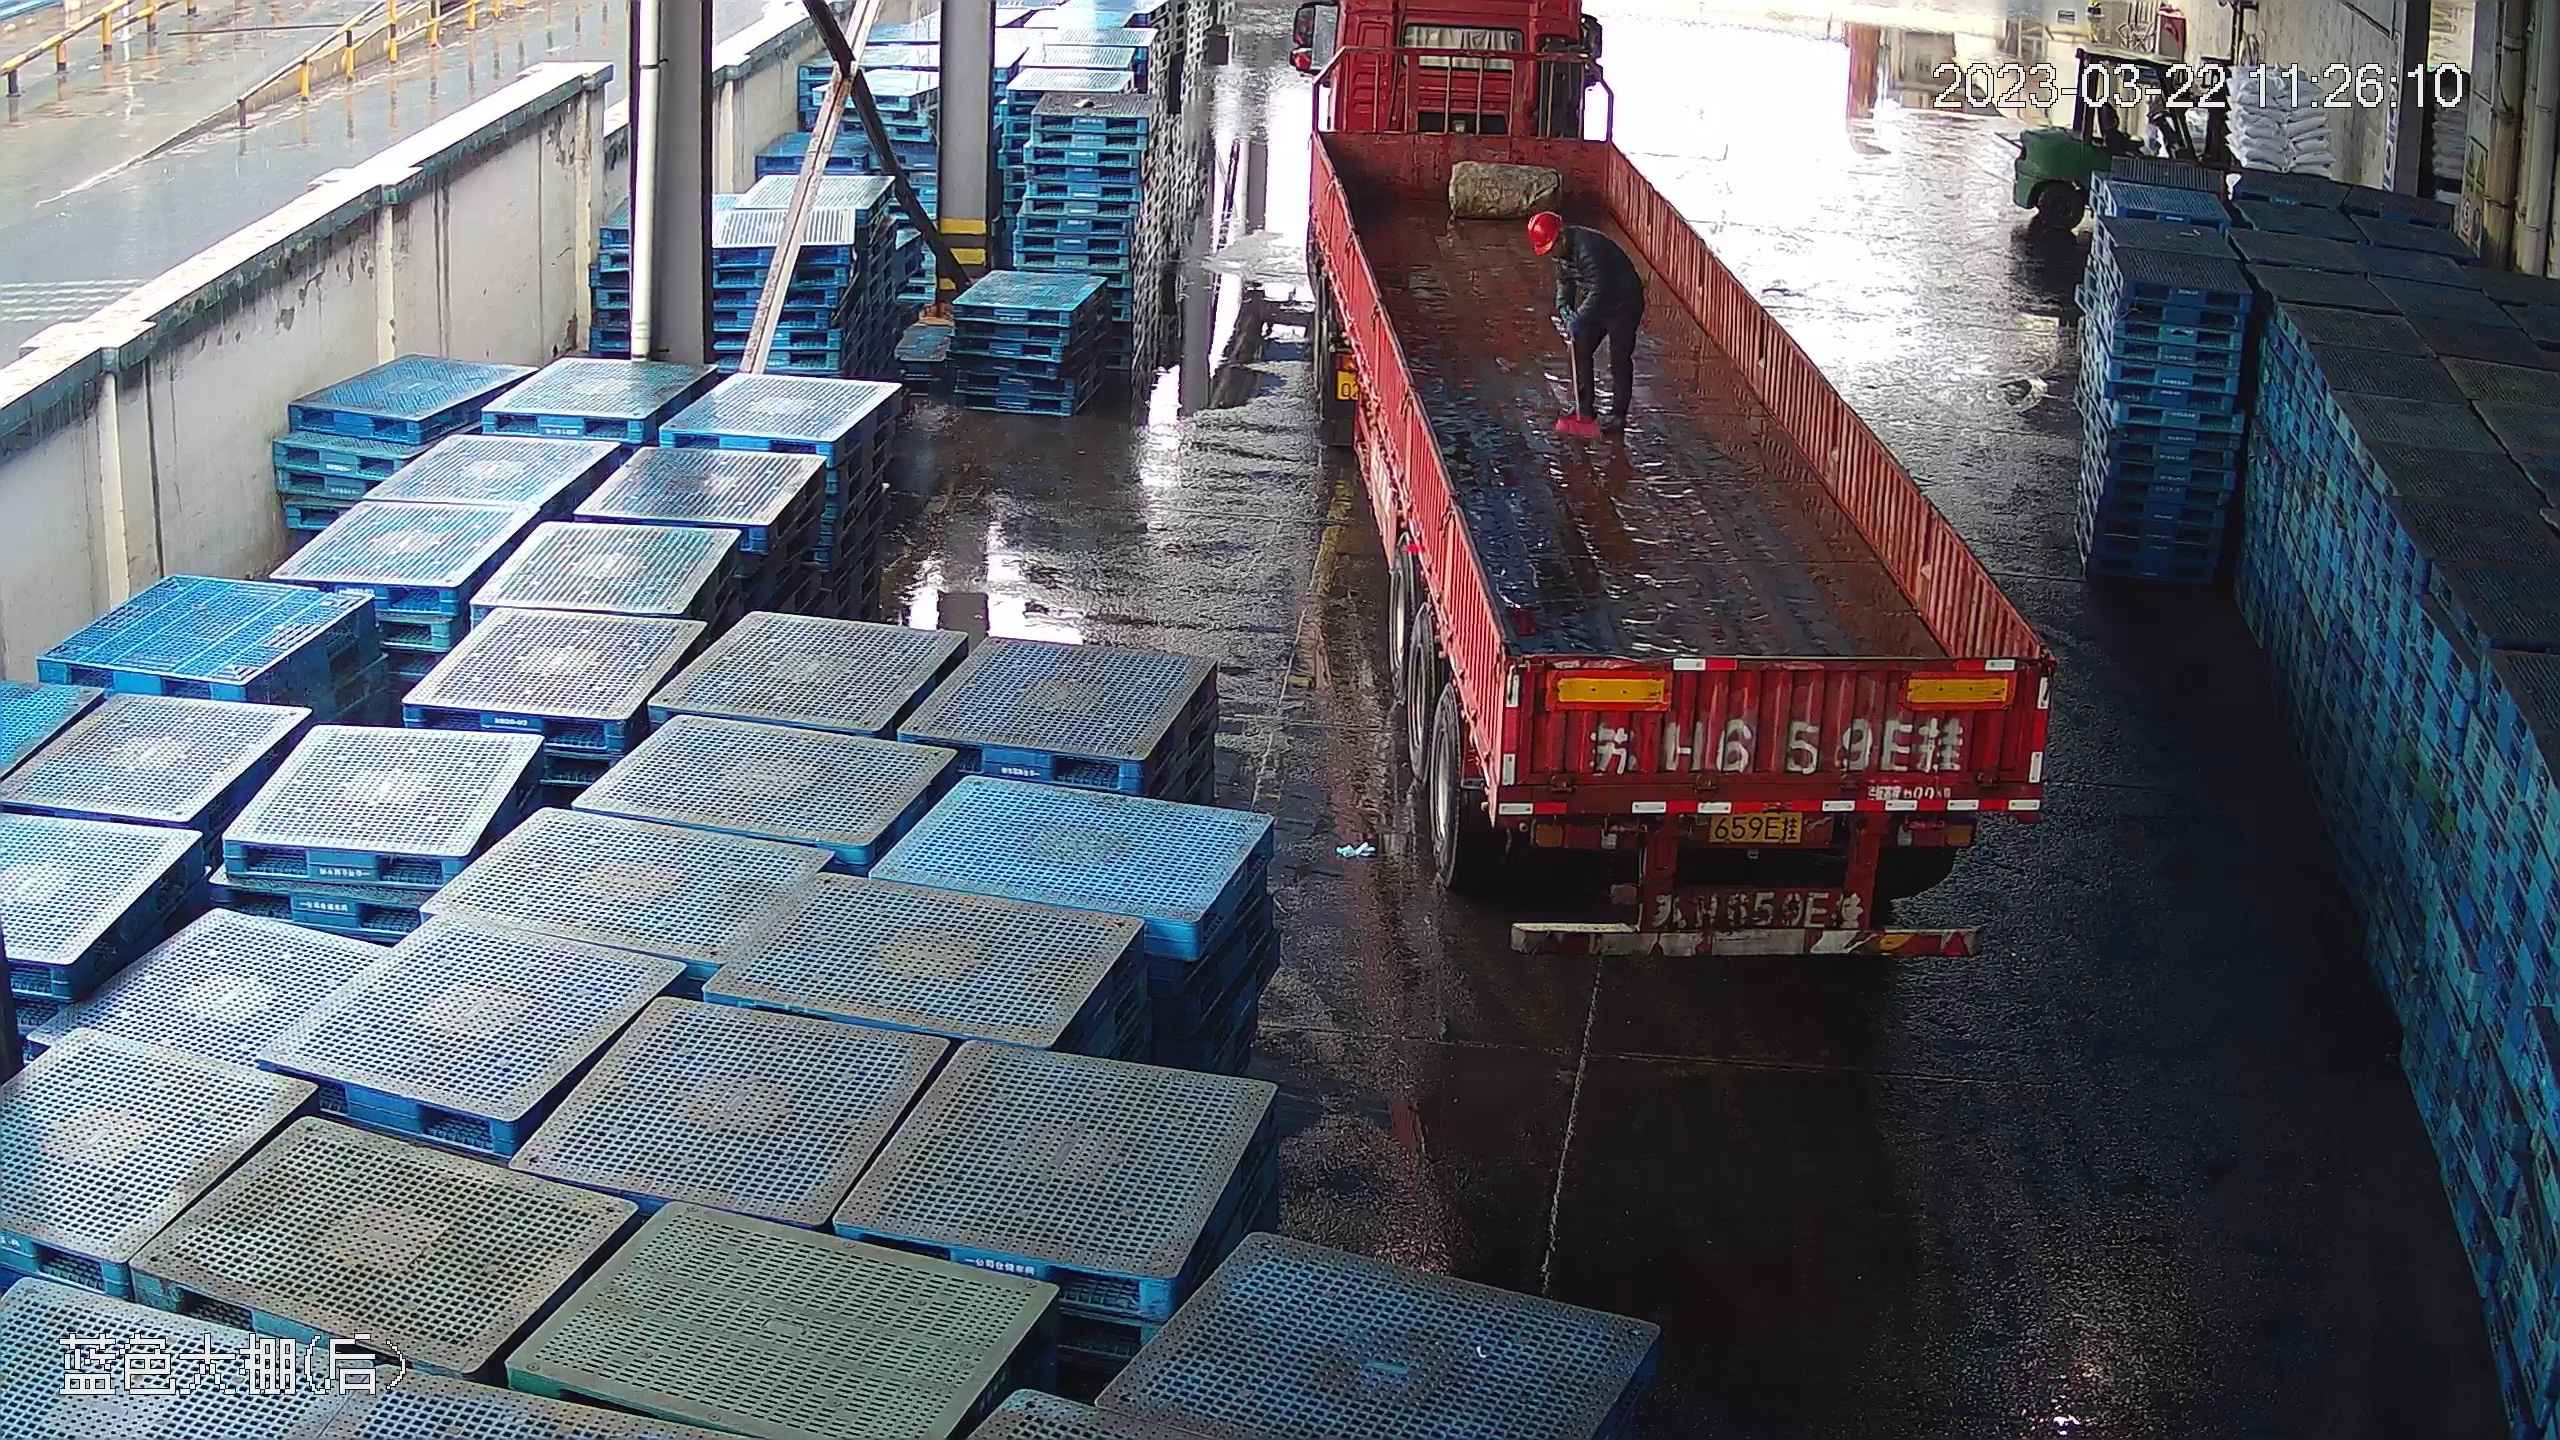head: (1525, 205, 1615, 278)
helmet: (1524, 209, 1562, 251)
people: (1525, 203, 1645, 433)
truck: (1293, 1, 2081, 962)
